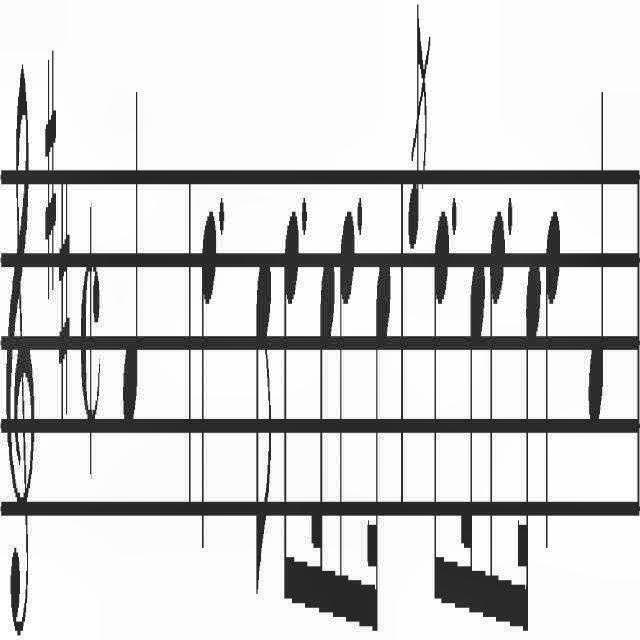Bass-clef: (3, 23, 40, 640)
Diez: (42, 23, 60, 306), (58, 139, 70, 415)
Eighth-note: (252, 227, 276, 617), (278, 180, 298, 612), (337, 190, 355, 640), (487, 200, 505, 640), (431, 201, 449, 624)
Quarter-note: (116, 90, 144, 466), (585, 70, 611, 470), (197, 171, 219, 543), (543, 176, 561, 552)
Sixteenth-note: (366, 238, 396, 640), (516, 235, 540, 640), (462, 240, 486, 640), (311, 227, 334, 618)
